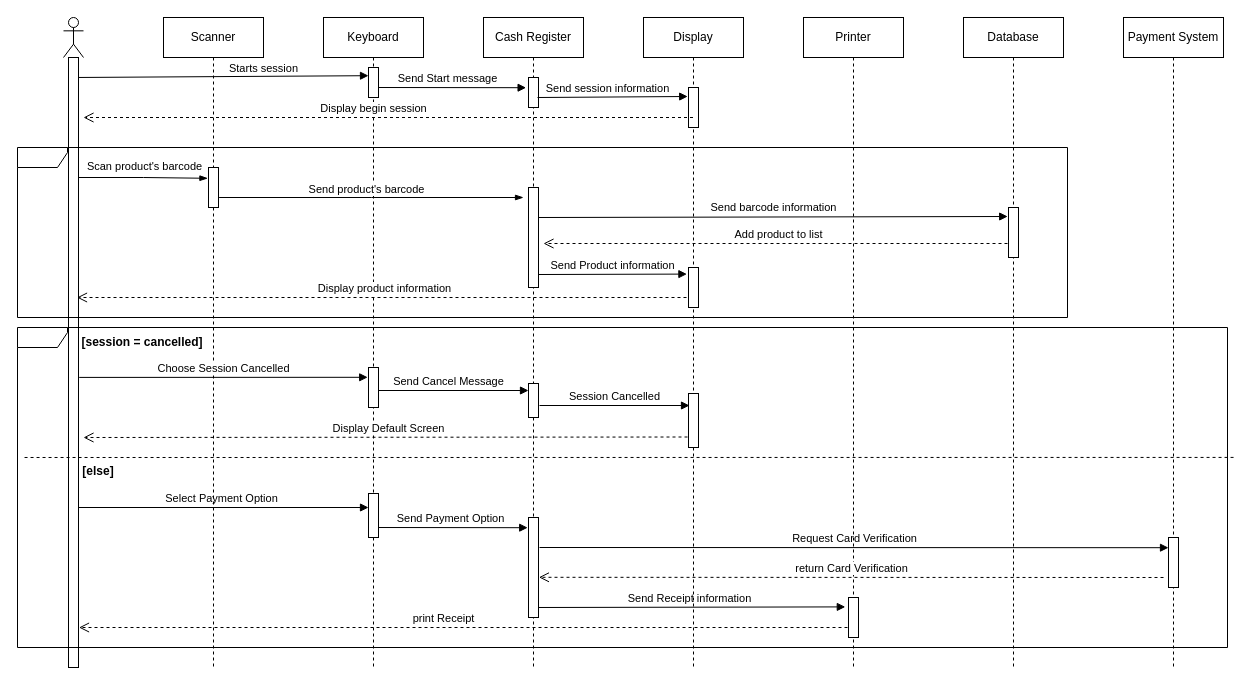
This 1253x685 diagram has some shape labels left out. Each missing label, with the centre of its shape:
"Alt" goes at point (622, 487).
"Loop" goes at point (542, 232).
